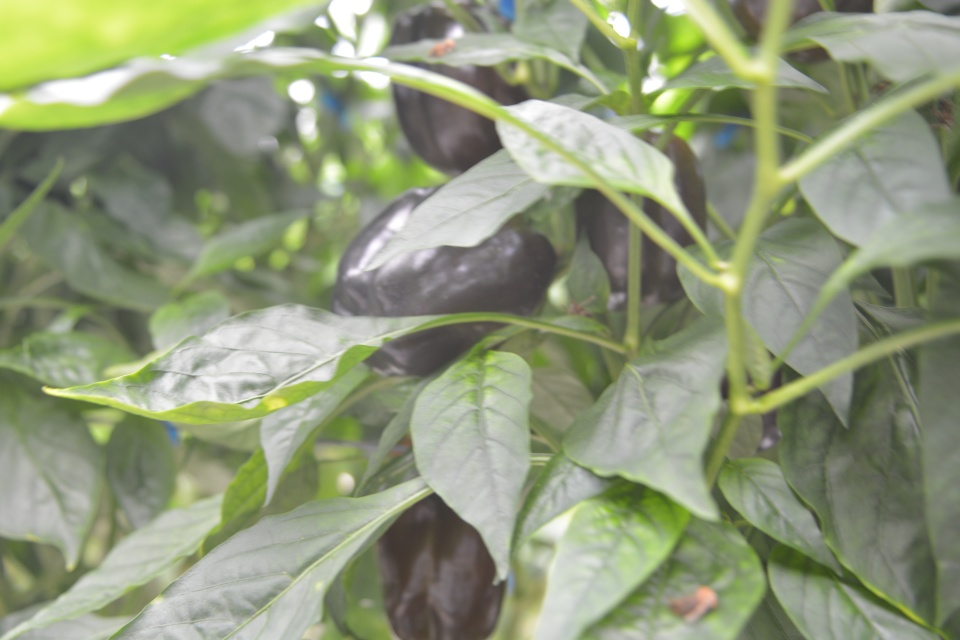fruit: (332, 183, 559, 379), (384, 0, 532, 176), (573, 128, 708, 308), (375, 492, 509, 640), (730, 0, 875, 68), (718, 348, 786, 454)
